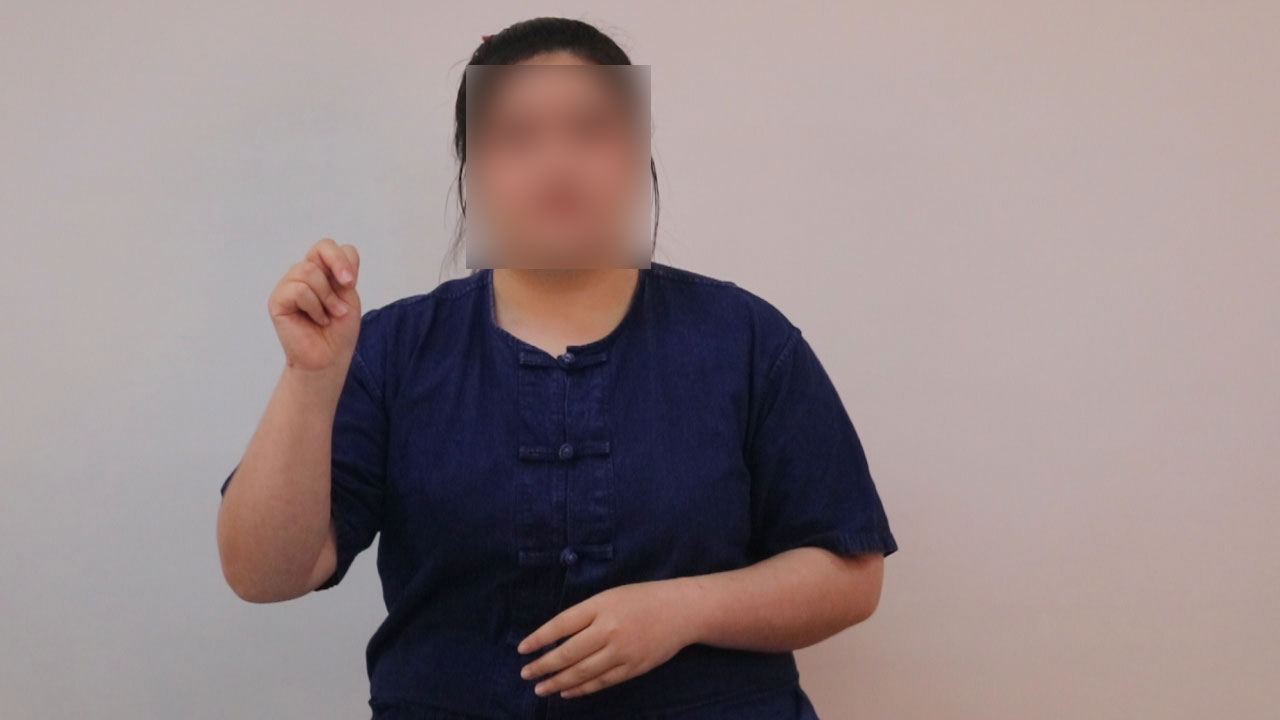nor: (260, 230, 377, 375)
